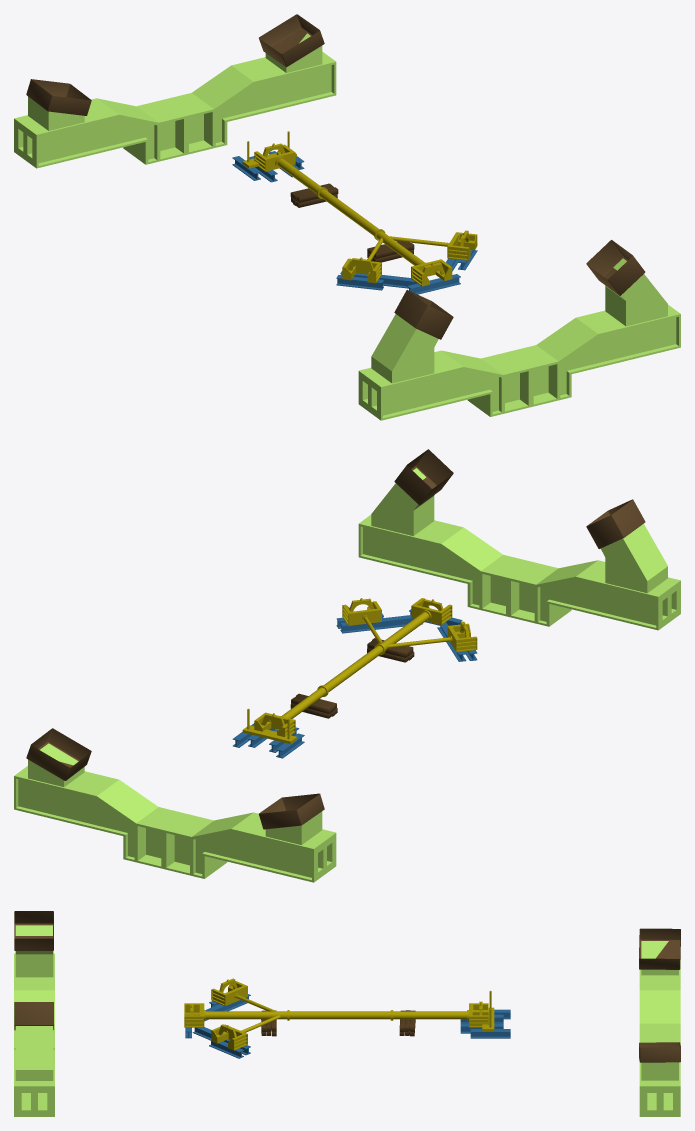
The model's file is stand.FBX.
3 renders of one model, top to bottom at view 1: azimuth 30°, elevation 25°; view 2: azimuth 150°, elevation 25°; view 3: azimuth 270°, elevation 25°, orthographic. The views are drawn at different scales.
Visible parts, largest first — view 1: standYaht, standShuttle; view 2: standYaht, standShuttle; view 3: standYaht, standShuttle.
Boxes of the visible parts, x1,y1,x2,y2 form: standYaht: (14,14,680,420); standShuttle: (232,131,477,294); standYaht: (14,449,680,882); standShuttle: (232,598,477,758); standYaht: (14,911,680,1116); standShuttle: (184,978,510,1058).
Size of the model in its own units: 15796 by 6368 by 33504.
